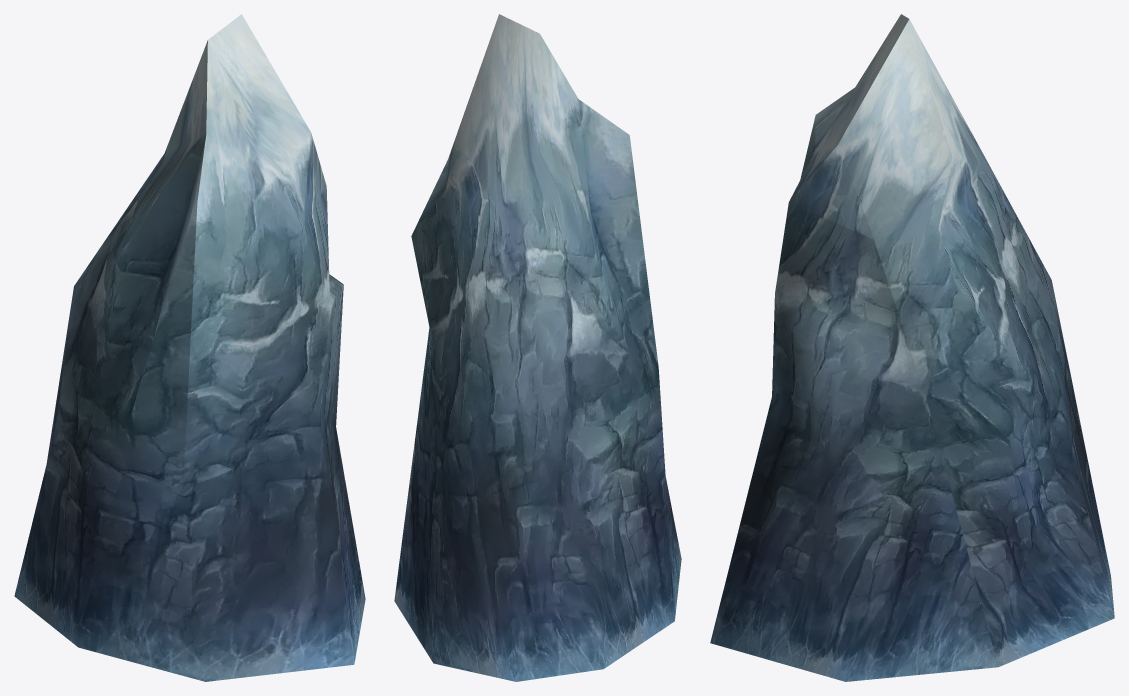
Rendered from environment_stone_xuedishanti_001_a.FBX.
The picture shows the model from 3 angles, left to right: view 1: azimuth 30°, elevation 25°; view 2: azimuth 150°, elevation 25°; view 3: azimuth 270°, elevation 25°; orthographic projection. The views are drawn at different scales.
Parts seen in each view (by area): view 1: environment_stone_xuedishanti_001_a; view 2: environment_stone_xuedishanti_001_a; view 3: environment_stone_xuedishanti_001_a.
Boxes of the visible parts, <box> form: environment_stone_xuedishanti_001_a: <box>14,14,365,681</box>; environment_stone_xuedishanti_001_a: <box>394,14,681,681</box>; environment_stone_xuedishanti_001_a: <box>710,14,1114,681</box>.
Size of the model in its own units: 94.74 by 200 by 119.
Materials: 1 (1 with a texture image).
